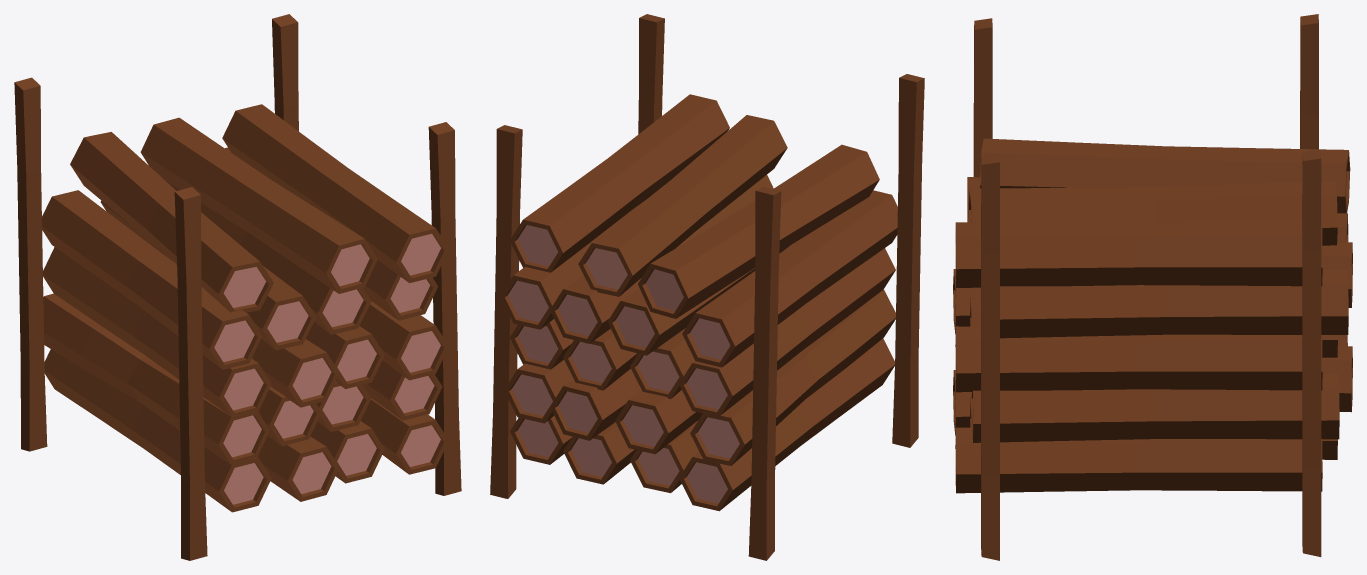
The model's file is Logs1Real.fbx.
3 renders of one model, left to right at view 1: azimuth 30°, elevation 25°; view 2: azimuth 150°, elevation 25°; view 3: azimuth 270°, elevation 25°, orthographic. The views are drawn at different scales.
Visible parts, largest first — view 1: Log_pile; view 2: Log_pile; view 3: Log_pile.
Part boxes in pixels (left/top/right/bottom): Log_pile: left=14, top=14, right=461, bottom=560; Log_pile: left=490, top=14, right=924, bottom=560; Log_pile: left=953, top=14, right=1352, bottom=560.
Bounding box in the file's own units: 124 × 151 × 138.
